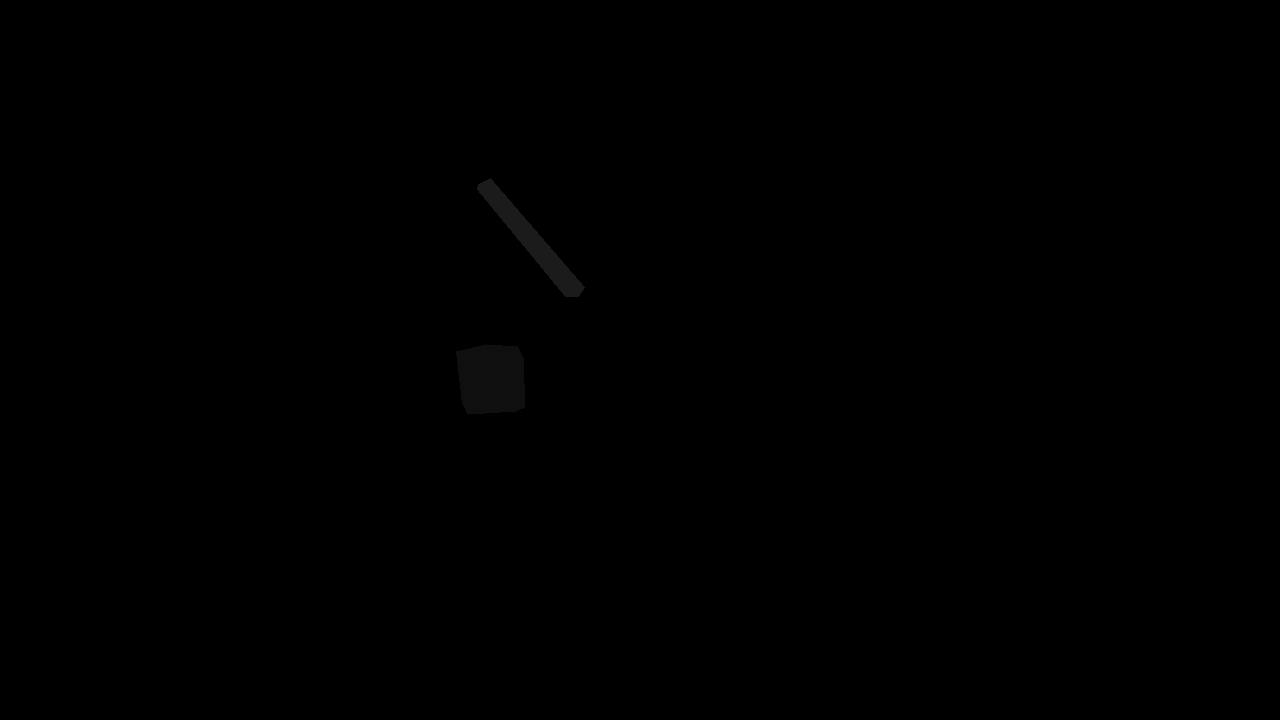Milk: (456, 344, 524, 414)
Pen_namepen: (477, 178, 584, 296)
